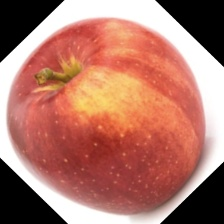apple: (26, 38, 187, 200)
